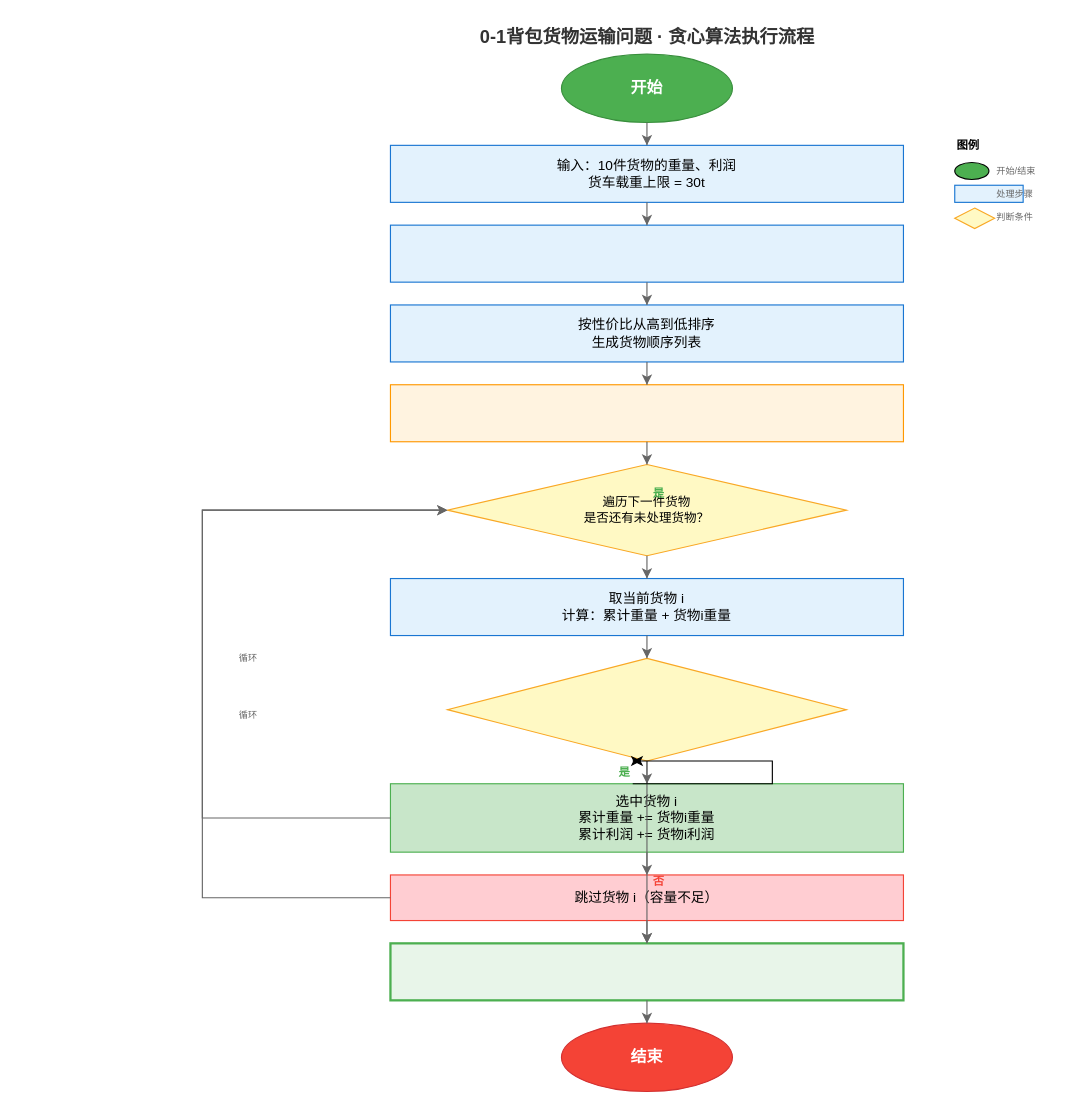
This 1082x1112 diagram has some shape labels left out. The shapes that lost their labels are listed below. From the top down, each one's centre as x and y in pixels, then its label:
At pixel 646 253: "计算每件货物的 单位重量利润（性价比）= 利润 ÷ 重量".
At pixel 646 413: "初始化： 累计重量 = 0 | 累计利润 = 0 | 选中集合 = ∅".
At pixel 646 709: "累计重量 + 货物i重量 ≤ 30t ？".
At pixel 646 971: "输出： 选中货物清单、总重量、总利润".
